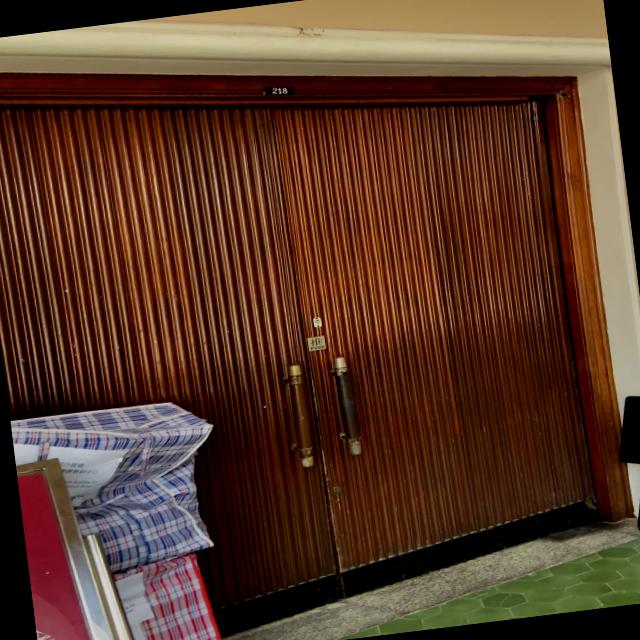room218: (260, 82, 296, 98)
